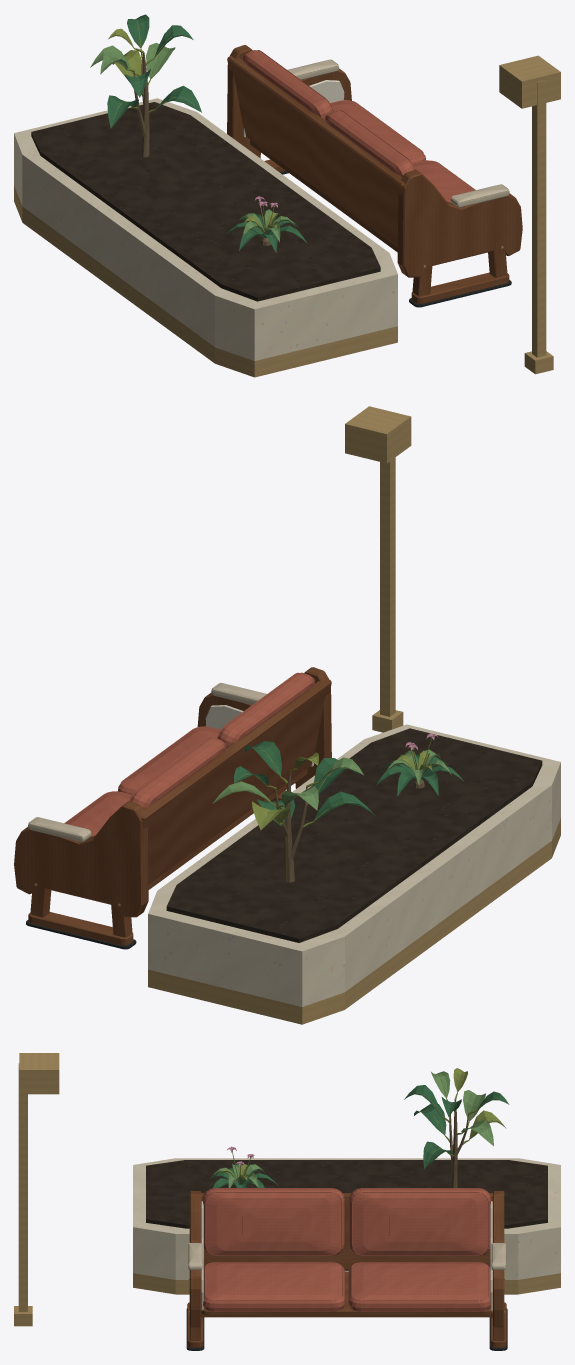
The model's file is G7_Completion_R003_G7C3_D09_Court_1.glb.
3 views of the same model, one above another, from view 1: azimuth 30°, elevation 25°; view 2: azimuth 150°, elevation 25°; view 3: azimuth 270°, elevation 25° (orthographic). The views are drawn at different scales.
Visible parts, largest first — view 1: G7C3_D09_Court_1_G7C3_soil_solid_furniture, G7C3_D09_Court_1_G7C3_stone_solid_furniture, G7C3_D09_Court_1_ASTRAEA_warm_walnut.003_solid_furniture, G7C3_D09_Court_1_G7C3_metal_solid_frame, G7C3_D09_Court_1_ASTRAEA_clay_weave.003_solid_furniture, G7C3_D09_Court_1_ASTRAEA_botanical_leaf_jade.006_visual_foli, G7C3_D09_Court_1_ASTRAEA_oatmeal_weave.003_solid_furniture, G7C3_D09_Court_1_ASTRAEA_botanical_leaf_sage.006_visual_foli, G7C3_D09_Court_1_ASTRAEA_botanical_leaf_olive.006_visual_fol, G7C3_D09_Court_1_ASTRAEA_botanical_bark.006_visual_foliage, G7C3_D09_Court_1_ASTRAEA_botanical_leaf_jade.007_visual_foli, G7C3_D09_Court_1_ASTRAEA_ivory_enamel.003_solid_furniture (+1 smaller); view 2: G7C3_D09_Court_1_G7C3_soil_solid_furniture, G7C3_D09_Court_1_G7C3_stone_solid_furniture, G7C3_D09_Court_1_ASTRAEA_warm_walnut.003_solid_furniture, G7C3_D09_Court_1_G7C3_metal_solid_frame, G7C3_D09_Court_1_ASTRAEA_clay_weave.003_solid_furniture, G7C3_D09_Court_1_ASTRAEA_botanical_leaf_jade.006_visual_foli, G7C3_D09_Court_1_ASTRAEA_oatmeal_weave.003_solid_furniture, G7C3_D09_Court_1_ASTRAEA_botanical_leaf_olive.006_visual_fol, G7C3_D09_Court_1_ASTRAEA_botanical_leaf_sage.006_visual_foli, G7C3_D09_Court_1_ASTRAEA_botanical_bark.006_visual_foliage, G7C3_D09_Court_1_ASTRAEA_botanical_leaf_jade.007_visual_foli; view 3: G7C3_D09_Court_1_ASTRAEA_clay_weave.003_solid_furniture, G7C3_D09_Court_1_G7C3_soil_solid_furniture, G7C3_D09_Court_1_G7C3_stone_solid_furniture, G7C3_D09_Court_1_ASTRAEA_warm_walnut.003_solid_furniture, G7C3_D09_Court_1_G7C3_metal_solid_frame, G7C3_D09_Court_1_ASTRAEA_botanical_leaf_jade.006_visual_foli, G7C3_D09_Court_1_ASTRAEA_botanical_leaf_sage.006_visual_foli, G7C3_D09_Court_1_ASTRAEA_botanical_leaf_olive.006_visual_fol, G7C3_D09_Court_1_ASTRAEA_oatmeal_weave.003_solid_furniture, G7C3_D09_Court_1_ASTRAEA_botanical_bark.006_visual_foliage, G7C3_D09_Court_1_ASTRAEA_ivory_enamel.003_solid_furniture, G7C3_D09_Court_1_ASTRAEA_botanical_leaf_sage.007_visual_foli (+2 smaller).
Part boxes in pixels (x1,y1,x2,y2): G7C3_D09_Court_1_G7C3_soil_solid_furniture: [31, 102, 380, 301]; G7C3_D09_Court_1_G7C3_stone_solid_furniture: [14, 98, 397, 360]; G7C3_D09_Court_1_ASTRAEA_warm_walnut.003_solid_furniture: [227, 45, 522, 304]; G7C3_D09_Court_1_G7C3_metal_solid_frame: [14, 55, 560, 377]; G7C3_D09_Court_1_ASTRAEA_clay_weave.003_solid_furniture: [242, 50, 475, 202]; G7C3_D09_Court_1_ASTRAEA_botanical_leaf_jade.006_visual_foli: [107, 14, 201, 128]; G7C3_D09_Court_1_ASTRAEA_oatmeal_weave.003_solid_furniture: [287, 59, 509, 207]; G7C3_D09_Court_1_ASTRAEA_botanical_leaf_sage.006_visual_foli: [90, 43, 175, 78]; G7C3_D09_Court_1_ASTRAEA_botanical_leaf_olive.006_visual_fol: [92, 19, 197, 123]; G7C3_D09_Court_1_ASTRAEA_botanical_bark.006_visual_foliage: [133, 52, 149, 157]; G7C3_D09_Court_1_ASTRAEA_botanical_leaf_jade.007_visual_foli: [226, 214, 307, 252]; G7C3_D09_Court_1_ASTRAEA_ivory_enamel.003_solid_furniture: [243, 80, 344, 137]; G7C3_D09_Court_1_G7C3_soil_solid_furniture: [166, 728, 542, 942]; G7C3_D09_Court_1_G7C3_stone_solid_furniture: [148, 724, 560, 1006]; G7C3_D09_Court_1_ASTRAEA_warm_walnut.003_solid_furniture: [14, 667, 331, 945]; G7C3_D09_Court_1_G7C3_metal_solid_frame: [148, 406, 560, 1024]; G7C3_D09_Court_1_ASTRAEA_clay_weave.003_solid_furniture: [64, 672, 314, 836]; G7C3_D09_Court_1_ASTRAEA_botanical_leaf_jade.006_visual_foli: [234, 741, 375, 825]; G7C3_D09_Court_1_ASTRAEA_oatmeal_weave.003_solid_furniture: [28, 682, 266, 841]; G7C3_D09_Court_1_ASTRAEA_botanical_leaf_olive.006_visual_fol: [216, 747, 361, 829]; G7C3_D09_Court_1_ASTRAEA_botanical_leaf_sage.006_visual_foli: [212, 757, 363, 810]; G7C3_D09_Court_1_ASTRAEA_botanical_bark.006_visual_foliage: [275, 772, 307, 882]; G7C3_D09_Court_1_ASTRAEA_botanical_leaf_jade.007_visual_foli: [377, 753, 463, 796]; G7C3_D09_Court_1_ASTRAEA_clay_weave.003_solid_furniture: [202, 1188, 491, 1311]; G7C3_D09_Court_1_G7C3_soil_solid_furniture: [146, 1160, 547, 1228]; G7C3_D09_Court_1_G7C3_stone_solid_furniture: [133, 1158, 560, 1279]; G7C3_D09_Court_1_ASTRAEA_warm_walnut.003_solid_furniture: [187, 1191, 506, 1347]; G7C3_D09_Court_1_G7C3_metal_solid_frame: [14, 1053, 560, 1326]; G7C3_D09_Court_1_ASTRAEA_botanical_leaf_jade.006_visual_foli: [404, 1085, 509, 1168]; G7C3_D09_Court_1_ASTRAEA_botanical_leaf_sage.006_visual_foli: [431, 1071, 493, 1146]; G7C3_D09_Court_1_ASTRAEA_botanical_leaf_olive.006_visual_fol: [416, 1068, 506, 1164]; G7C3_D09_Court_1_ASTRAEA_oatmeal_weave.003_solid_furniture: [188, 1243, 505, 1269]; G7C3_D09_Court_1_ASTRAEA_botanical_bark.006_visual_foliage: [449, 1100, 468, 1187]; G7C3_D09_Court_1_ASTRAEA_ivory_enamel.003_solid_furniture: [201, 1201, 492, 1311]; G7C3_D09_Court_1_ASTRAEA_botanical_leaf_sage.007_visual_foli: [211, 1163, 264, 1187].
Size of the model in its own units: 2.43 by 2.15 by 4.09.
19 materials, 18 textured.
